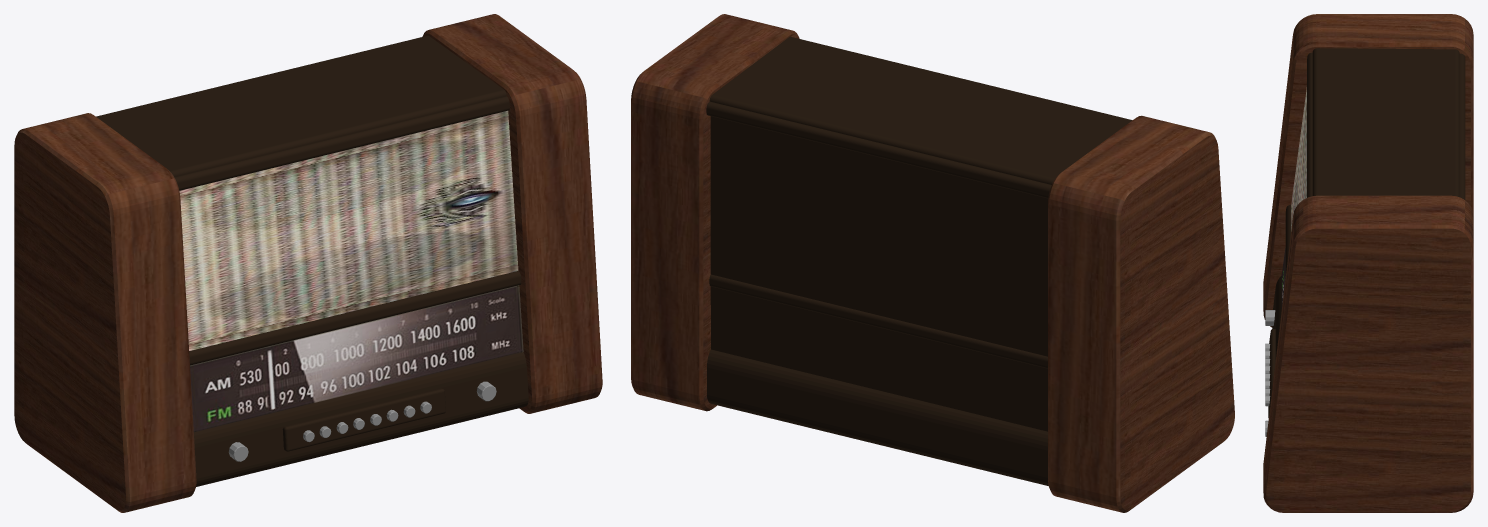
The model's file is Old Radio.FBX.
The picture shows the model from 3 angles, left to right: view 1: azimuth 30°, elevation 25°; view 2: azimuth 150°, elevation 25°; view 3: azimuth 270°, elevation 25°; orthographic projection. The views are drawn at different scales.
Parts seen in each view (by area): view 1: _________0, Object001; view 2: _________0, Object001; view 3: Object001, _________0.
Part boxes in pixels (x1,y1,x2,y2): _________0: [96, 35, 528, 486]; Object001: [14, 14, 602, 512]; _________0: [706, 36, 1132, 485]; Object001: [631, 14, 1234, 512]; Object001: [1263, 14, 1473, 512]; _________0: [1265, 48, 1465, 436].
Bounding box in the file's own units: 362 × 228 × 151.
Materials: 5 (3 with a texture image).
